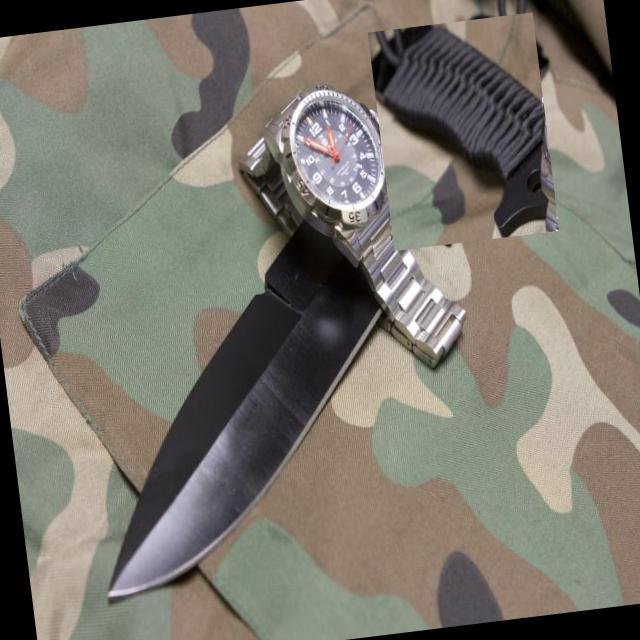Knife: (109, 222, 380, 597), (372, 26, 547, 237)
